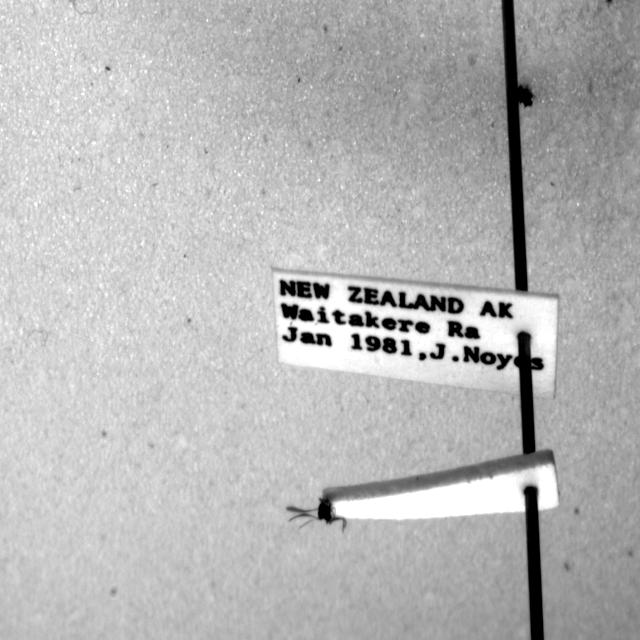typed_label: (272, 270, 559, 398)
